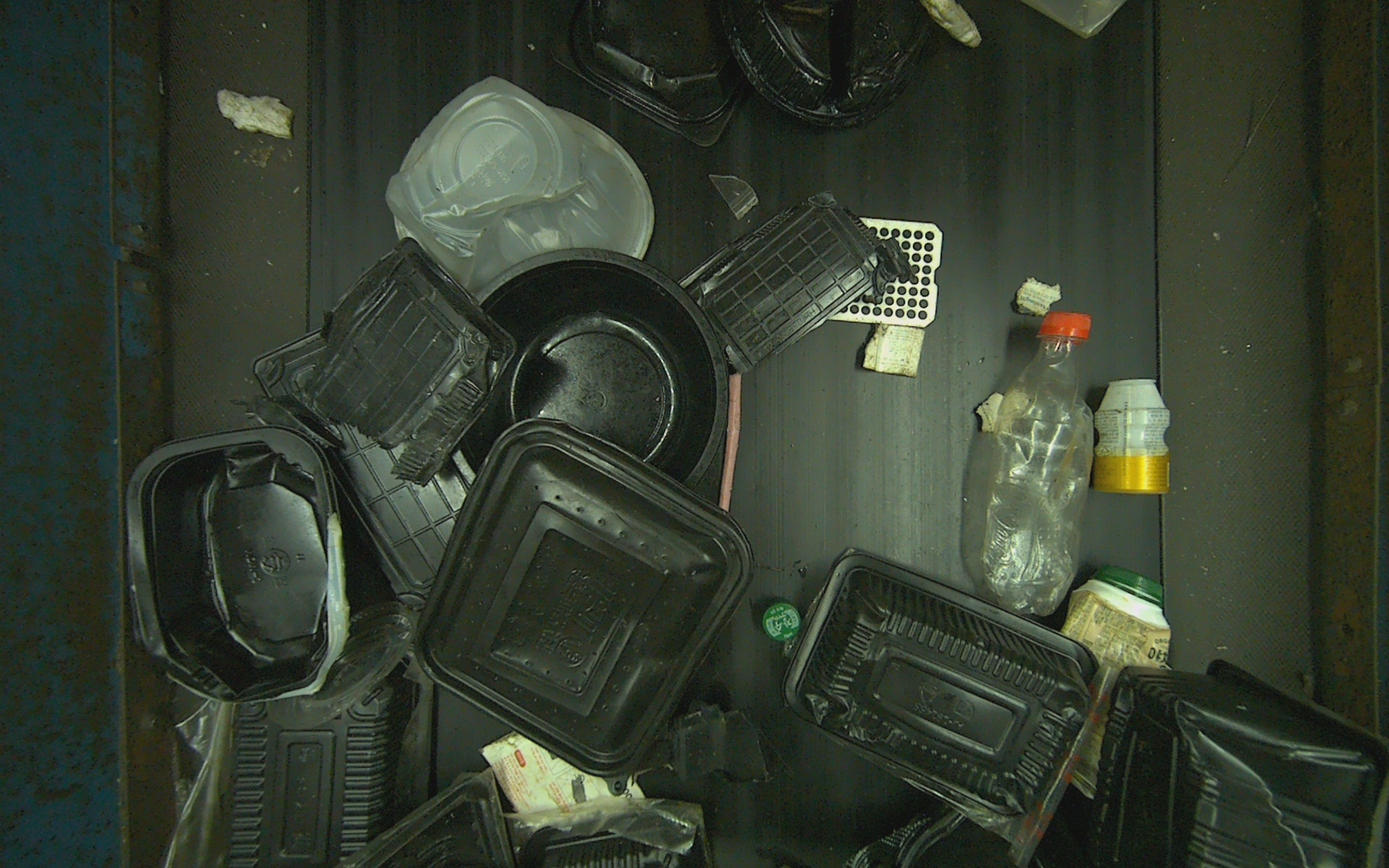PET: (982, 313, 1093, 617)
PP-B: (414, 418, 753, 777), (782, 551, 1099, 815), (126, 425, 339, 701)
PS-W: (1094, 379, 1170, 494)
